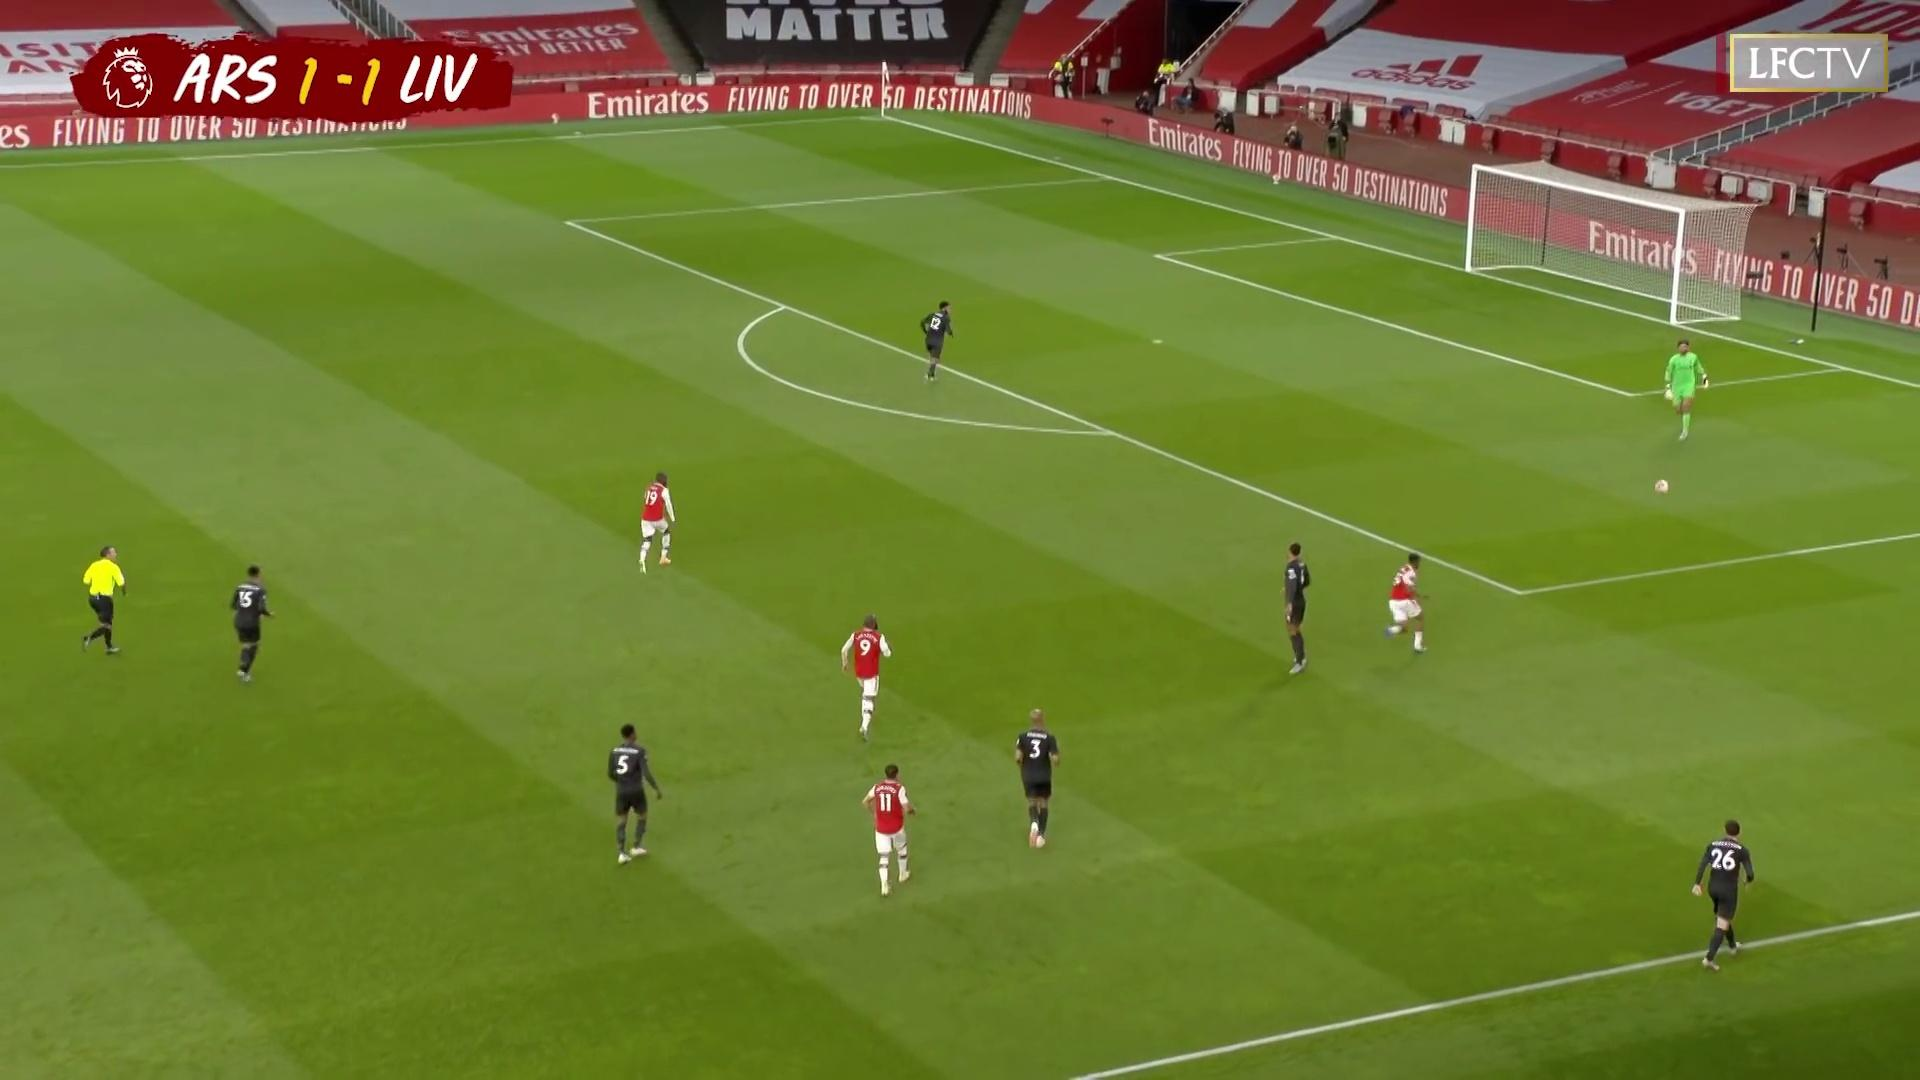ball: (1656, 479, 1669, 493)
